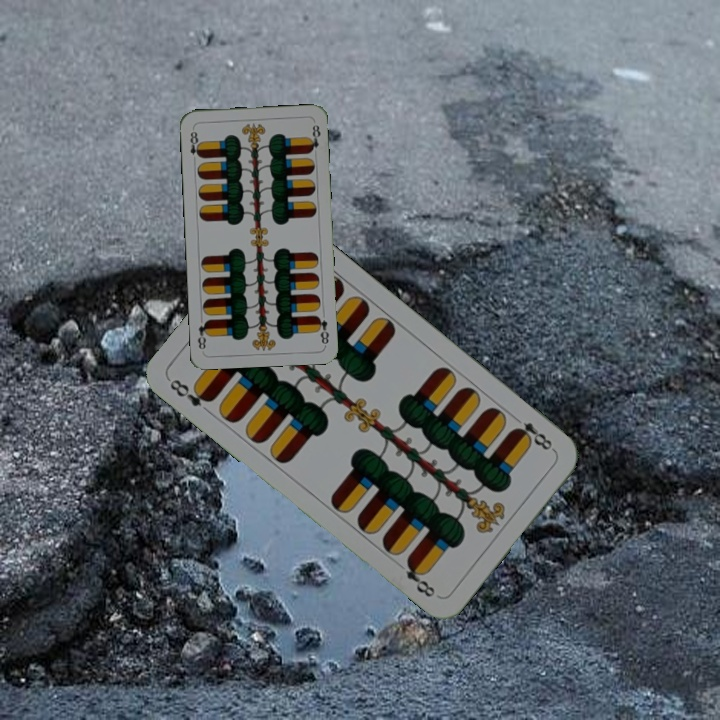E8: (508, 411, 558, 454), (165, 375, 216, 410), (186, 124, 204, 165), (312, 312, 332, 346)
